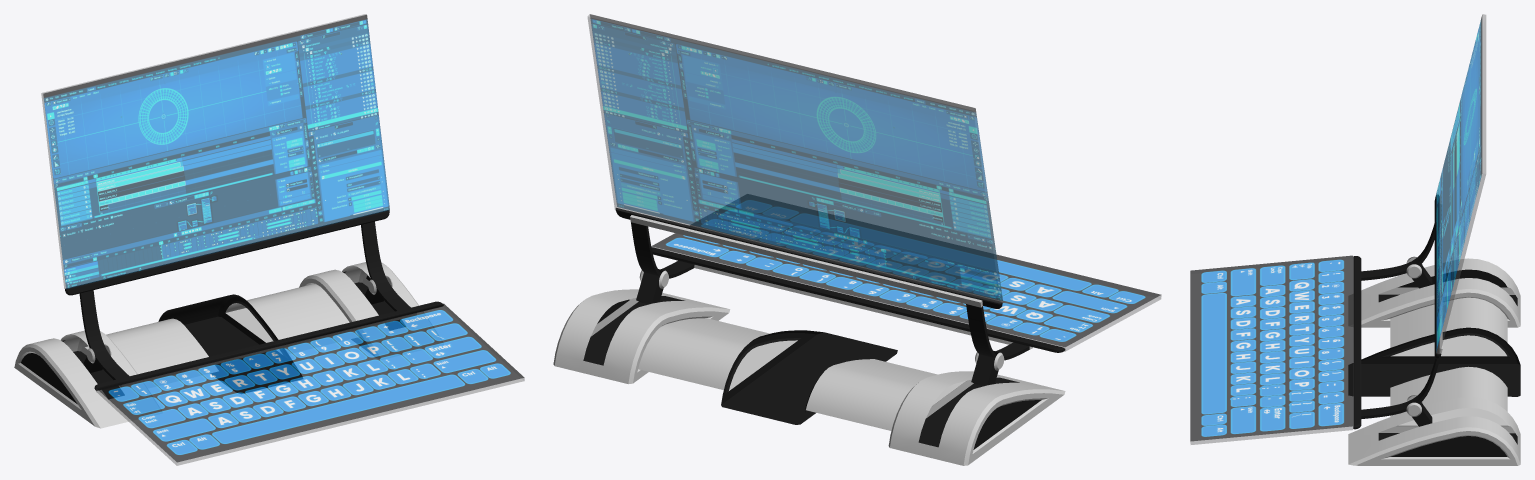
The model's file is sci_-_fi_computer_game_ready.glb.
3 views of the same model, side by side, from view 1: azimuth 30°, elevation 25°; view 2: azimuth 150°, elevation 25°; view 3: azimuth 270°, elevation 25° (orthographic). The views are drawn at different scales.
Parts seen in each view (by area): view 1: Plane.001, Circle, Plane.002; view 2: Plane.001, Circle, Plane.002; view 3: Circle, Plane.002, Plane.001.
Part boxes in pixels (left/top/right/bottom): Plane.001: left=41, top=14, right=389, bottom=288; Circle: left=14, top=210, right=443, bottom=428; Plane.002: left=96, top=303, right=524, bottom=465; Plane.001: left=588, top=14, right=1002, bottom=303; Circle: left=553, top=208, right=1065, bottom=465; Plane.002: left=651, top=194, right=1161, bottom=351; Circle: left=1348, top=194, right=1520, bottom=465; Plane.002: left=1190, top=255, right=1352, bottom=444; Plane.001: left=1436, top=14, right=1485, bottom=353.
Bounding box in the file's own units: 4.95 × 3.86 × 4.04.
Materials: 4 (1 with a texture image).
